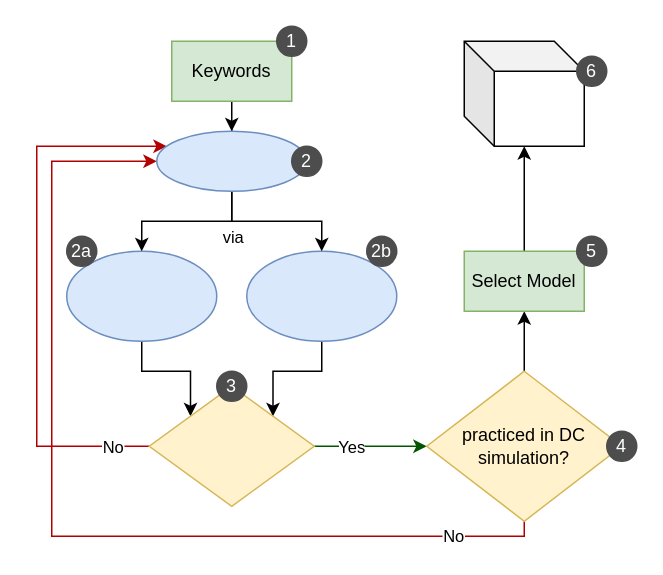
Image size: 663x575. Some labels were removed from this diagram. The shapes that lost their labels are listed below. From the top down, each one's box as (x1, y1, x2, y2) in pixels, then its label:
(463, 40, 584, 146): Models
(155, 130, 307, 191): search (more) literature
(65, 250, 217, 341): Google Scholar
(245, 250, 397, 341): ACM Digital Library
(148, 385, 314, 506): #citation > 500
